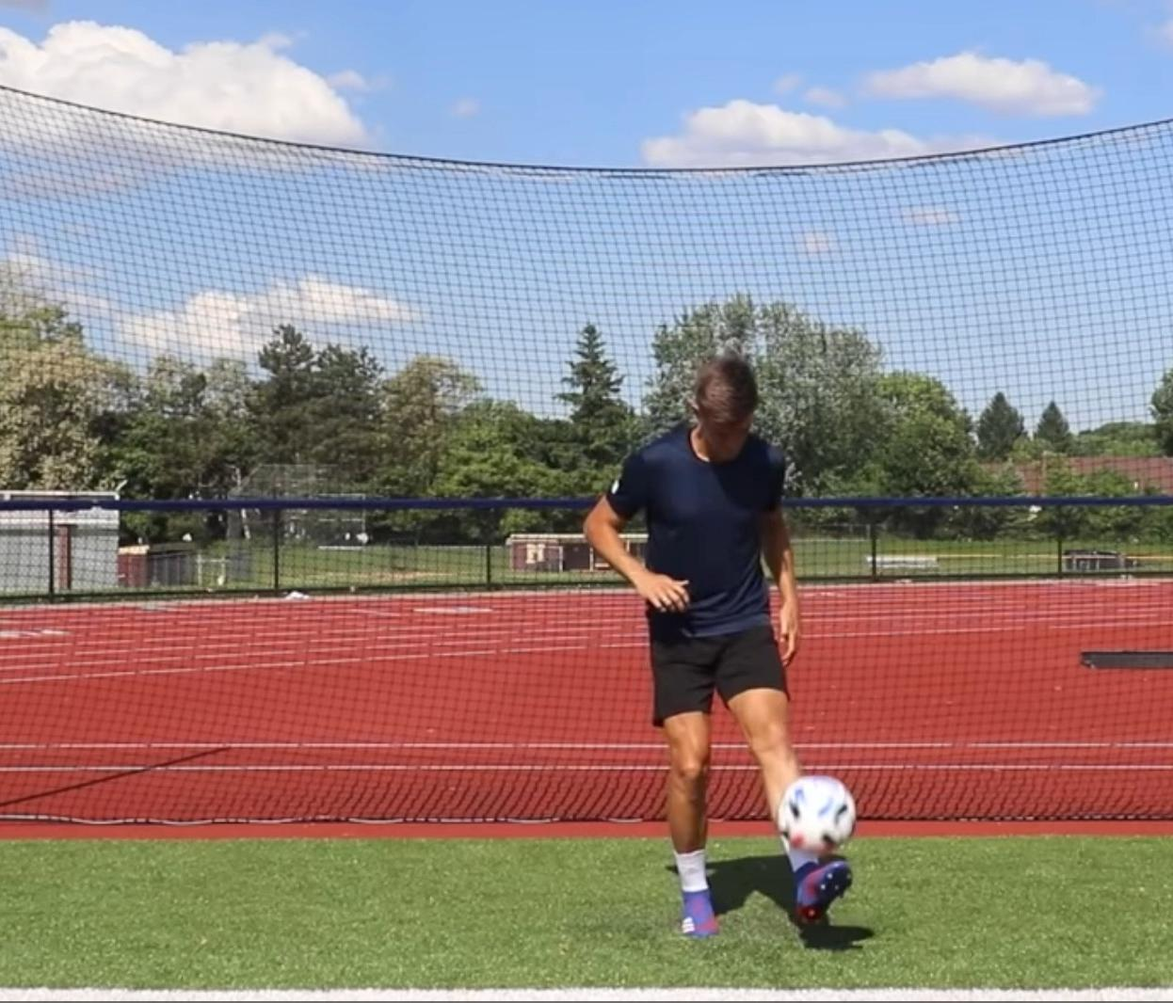ball: (780, 775, 856, 854)
foot: (789, 851, 852, 926), (678, 879, 724, 941)
person: (586, 356, 850, 939)
